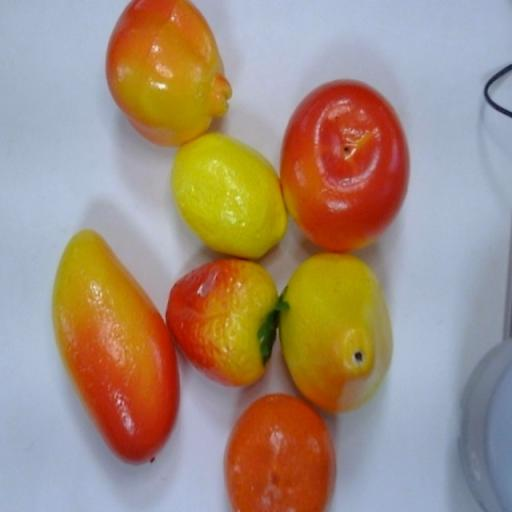Ripe: (48, 228, 181, 470), (280, 76, 415, 257), (283, 257, 400, 416), (104, 0, 232, 145), (163, 260, 281, 392), (170, 132, 290, 258), (220, 393, 340, 512)
